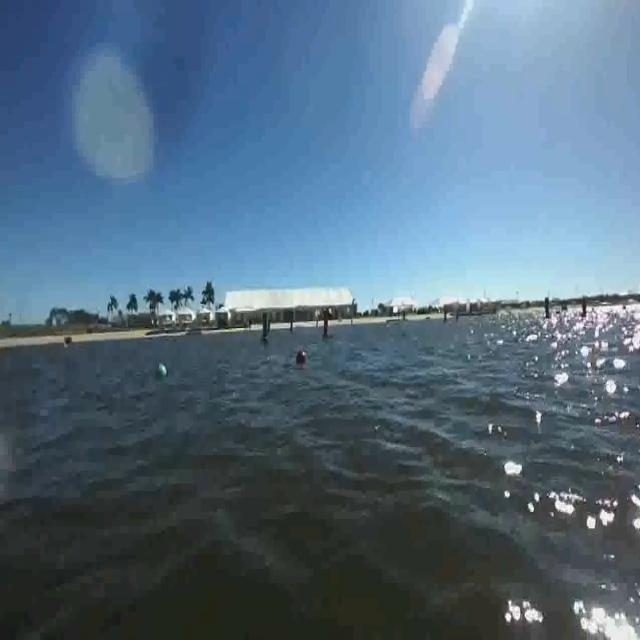black-buoy: (295, 349, 306, 367)
green-buoy: (154, 363, 170, 379)
green-column-buoy: (262, 311, 273, 343)
red-column-buoy: (322, 310, 332, 339)
